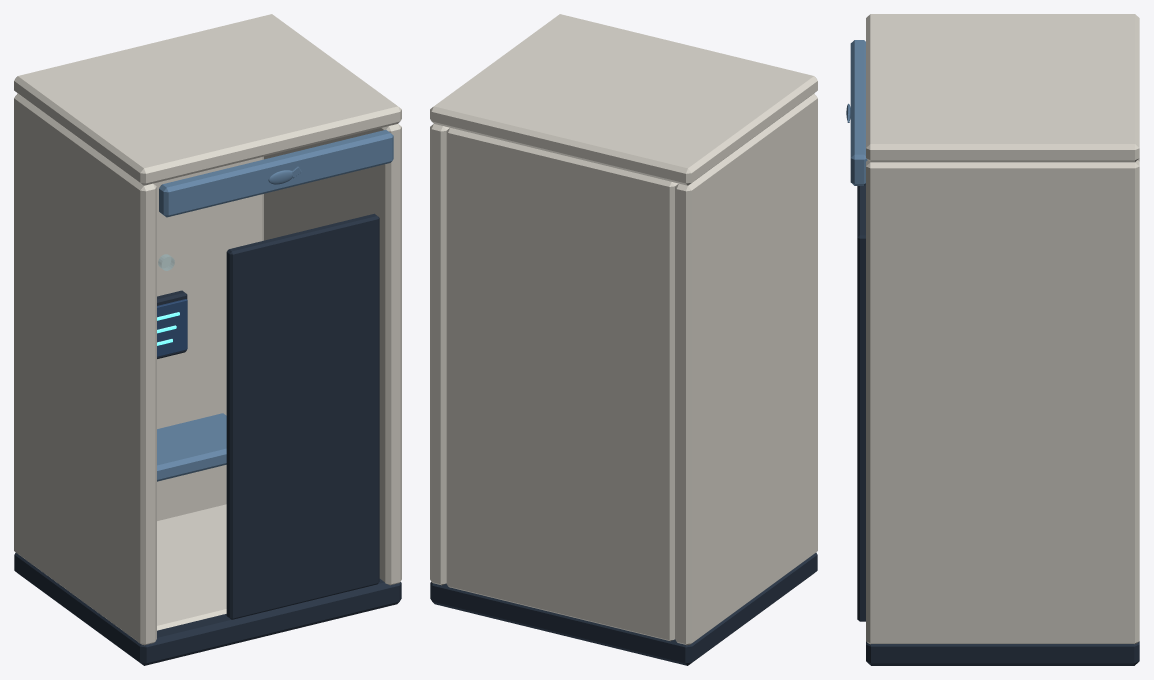
The model's file is public_10.glb.
3 views of the same model, side by side, from view 1: azimuth 30°, elevation 25°; view 2: azimuth 150°, elevation 25°; view 3: azimuth 270°, elevation 25° (orthographic). The views are drawn at different scales.
Visible parts, largest first — view 1: Side (×2), BoothEntrance, Top, Back, Base, BoothHeader, Bottom, BoothSeat, Screen; view 2: Back, Side (×2), Top, Base; view 3: Side, Top, Base, BoothEntrance, BoothHeader.
Boxes of the visible parts, x1,y1,x2,y2 form: Side (×2): (14,93,401,645); BoothEntrance: (226,213,379,619); Top: (14,14,401,185); Back: (153,156,263,520); Base: (14,552,401,665); BoothHeader: (159,130,393,217); Bottom: (157,504,226,630); BoothSeat: (157,413,226,481); Screen: (157,299,187,356); Back: (446,128,678,641); Side (×2): (430,93,817,645); Top: (430,14,817,185); Base: (430,552,817,665); Side: (866,160,1139,644); Top: (866,14,1139,162); Base: (866,641,1139,665); BoothEntrance: (857,184,865,621); BoothHeader: (850,40,867,185).
Bounding box in the file's own units: 1.1 × 2 × 1.02.
